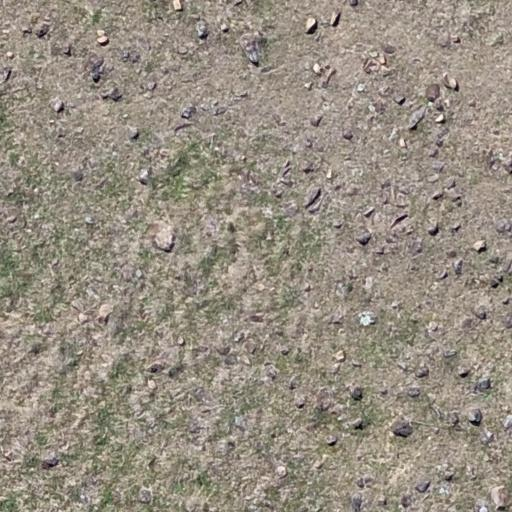stone: (239, 32, 262, 66), (84, 53, 106, 85), (152, 227, 180, 251), (312, 62, 336, 88), (301, 183, 324, 209), (362, 53, 388, 74), (407, 105, 427, 130), (276, 160, 294, 187), (314, 388, 334, 412), (389, 418, 413, 438), (490, 485, 510, 509), (440, 72, 462, 92), (96, 303, 114, 326), (354, 309, 377, 326), (100, 86, 123, 102), (389, 213, 409, 231), (214, 438, 233, 456), (120, 49, 142, 64), (501, 404, 512, 434), (357, 200, 377, 216), (49, 42, 69, 58), (411, 365, 432, 380), (445, 186, 463, 203), (425, 83, 441, 102), (280, 203, 299, 219), (137, 486, 153, 505), (34, 21, 51, 38), (308, 112, 328, 126), (436, 31, 452, 48), (467, 408, 483, 425), (486, 149, 498, 171), (173, 122, 193, 135), (496, 218, 512, 234), (336, 281, 352, 297), (180, 105, 197, 120), (42, 455, 60, 469), (195, 20, 209, 38), (0, 66, 13, 85), (479, 430, 495, 445), (474, 378, 491, 392), (304, 17, 318, 34), (136, 168, 150, 185), (167, 364, 184, 378), (351, 493, 363, 512), (415, 479, 431, 493), (355, 232, 371, 246), (370, 100, 386, 114), (446, 413, 460, 429), (96, 30, 109, 47), (244, 340, 258, 355), (126, 125, 140, 140), (71, 167, 85, 182), (85, 286, 100, 300), (380, 42, 396, 55), (499, 258, 512, 274), (500, 157, 512, 174), (461, 316, 475, 330), (490, 274, 504, 288), (302, 160, 316, 174), (329, 10, 341, 26), (215, 344, 231, 356), (148, 362, 164, 374), (265, 366, 278, 380), (350, 387, 363, 401), (431, 160, 445, 173), (472, 240, 487, 252), (400, 494, 412, 509), (451, 30, 462, 46), (453, 258, 463, 275), (407, 386, 421, 398), (473, 308, 487, 320), (431, 189, 445, 201), (272, 113, 284, 127), (234, 416, 246, 430), (247, 314, 265, 323), (351, 418, 364, 430), (427, 223, 439, 236), (334, 349, 346, 362), (2, 450, 14, 463), (21, 24, 34, 36), (146, 455, 158, 468), (396, 361, 410, 372), (392, 94, 406, 105), (50, 259, 61, 273), (426, 321, 440, 332), (354, 82, 368, 93), (458, 366, 470, 378), (294, 396, 306, 408), (325, 434, 337, 446), (233, 331, 245, 343), (436, 268, 448, 280), (313, 458, 325, 470), (260, 65, 276, 74), (226, 221, 237, 234), (442, 348, 456, 358), (388, 127, 398, 141), (342, 130, 354, 141), (53, 100, 64, 112), (356, 477, 368, 488), (434, 101, 446, 112), (78, 312, 89, 324), (276, 466, 287, 478), (321, 101, 333, 112), (213, 106, 226, 116), (4, 215, 18, 224), (172, 0, 183, 11), (288, 378, 298, 390), (240, 354, 250, 366), (332, 363, 342, 375), (147, 378, 157, 390), (312, 62, 322, 74), (377, 495, 387, 507), (176, 46, 189, 55), (434, 113, 445, 123), (280, 346, 290, 356), (147, 81, 157, 91), (444, 472, 454, 482), (303, 81, 313, 91), (84, 215, 94, 225), (390, 300, 400, 310), (506, 312, 512, 328), (220, 22, 229, 32), (398, 137, 406, 148), (177, 336, 185, 346), (368, 104, 376, 114), (135, 269, 143, 279), (96, 29, 106, 37), (233, 0, 244, 7), (502, 296, 510, 305), (5, 51, 14, 59), (326, 168, 332, 180)
